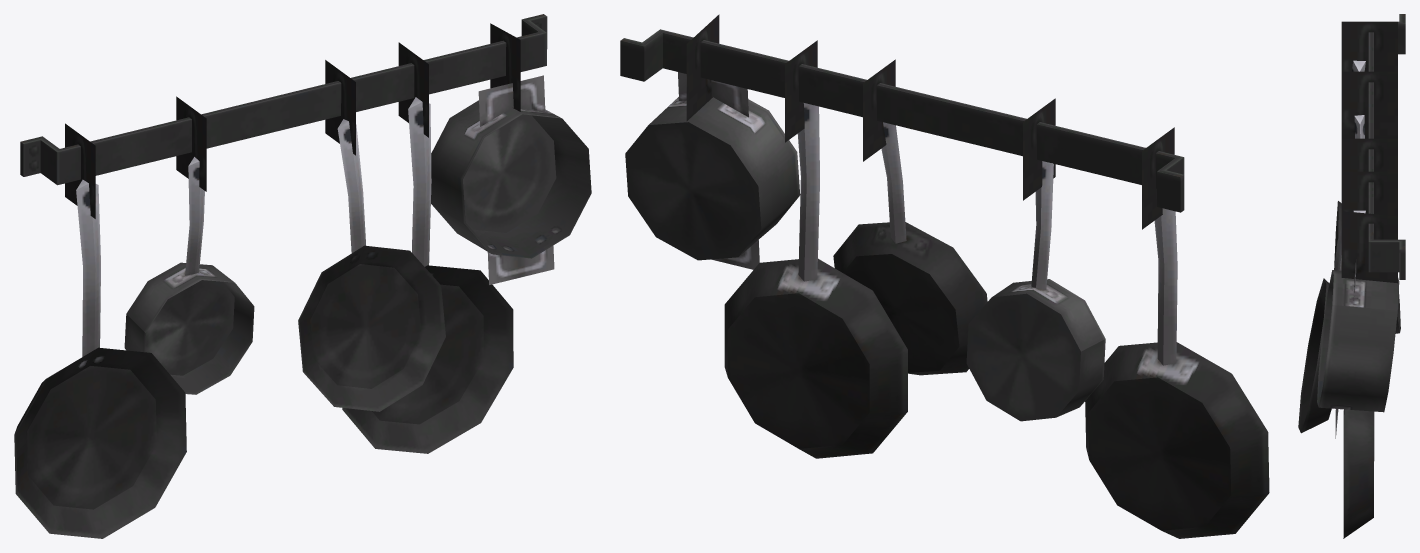
Rendered from paellas.fbx.
3 renders of one model, left to right at view 1: azimuth 30°, elevation 25°; view 2: azimuth 150°, elevation 25°; view 3: azimuth 270°, elevation 25°, orthographic. The views are drawn at different scales.
Parts seen in each view (by area): view 1: s4studio_mesh_1; view 2: s4studio_mesh_1; view 3: s4studio_mesh_1.
Boxes of the visible parts, x1=… form: s4studio_mesh_1: x1=14, y1=14, x2=591, y2=538; s4studio_mesh_1: x1=620, y1=14, x2=1269, y2=538; s4studio_mesh_1: x1=1298, y1=14, x2=1405, y2=538.
Size of the model in its own units: 123 by 80.88 by 21.75.
Materials: 1 (1 with a texture image).
